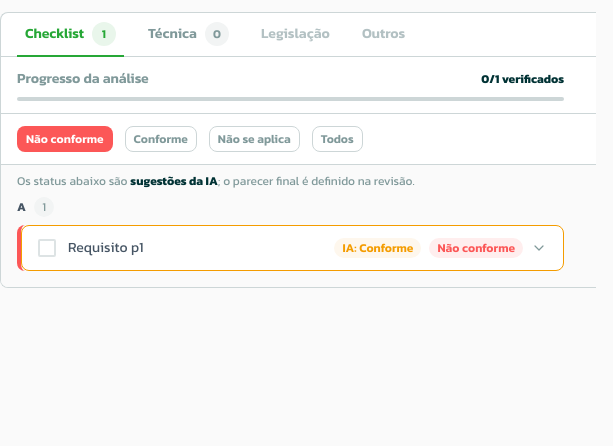
Test: PainelRevisao › referência de página (RF-014) › CONCLUIDA: 'Página N' segue clicável, mas sem 'Editar'/'Definir'
The width and height of the screenshot is (613, 446).
Step 1. Click the button "Todos" → click(337, 139), box [312, 126, 363, 152]
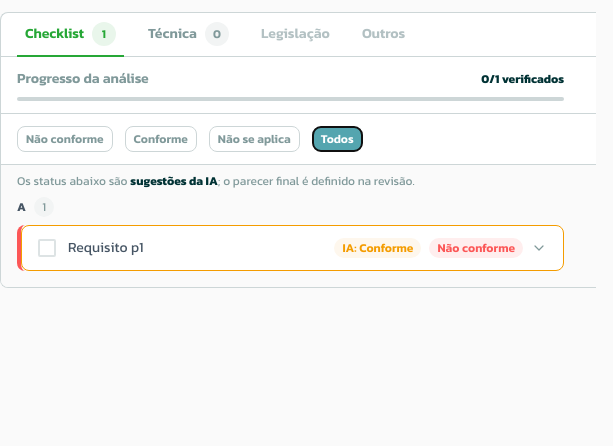
Step 2. Click the button "Requisito p1 IA: Conforme Não conforme" → click(106, 248), box [68, 238, 547, 258]
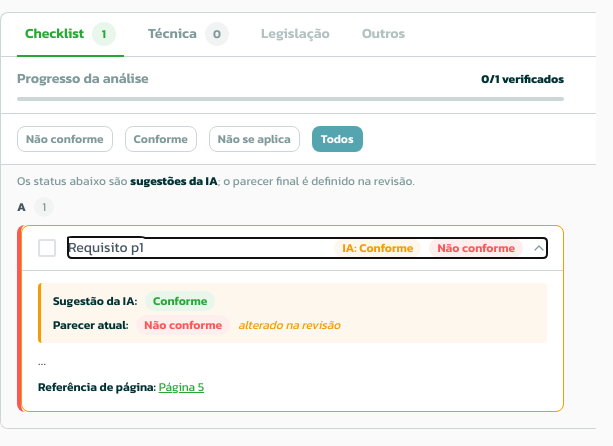
Expected: the button "Página 5" is shown, [159, 379, 204, 395]
